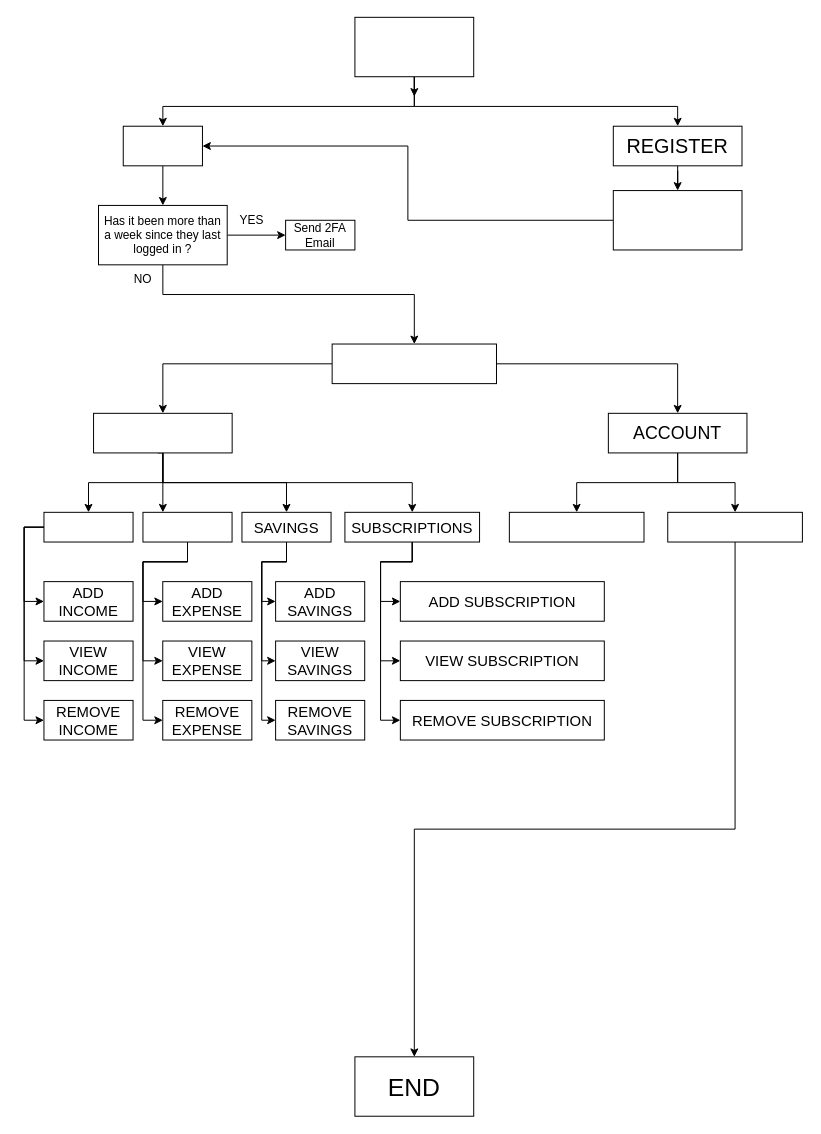
This 821x1134 diagram has some shape labels left out. Here are the shapes that lost their labels. From the top down, the centre of each, then its label:
(x=414, y=46): START
(x=162, y=145): LOGIN
(x=677, y=220): Add Details to the DB and conduct RegEx checks
(x=413, y=363): MAIN APP LOOP
(x=162, y=432): DASHBOARD
(x=88, y=526): INCOMES
(x=187, y=526): EXPENSES
(x=576, y=526): SETTINGS
(x=734, y=526): LOG OUT
